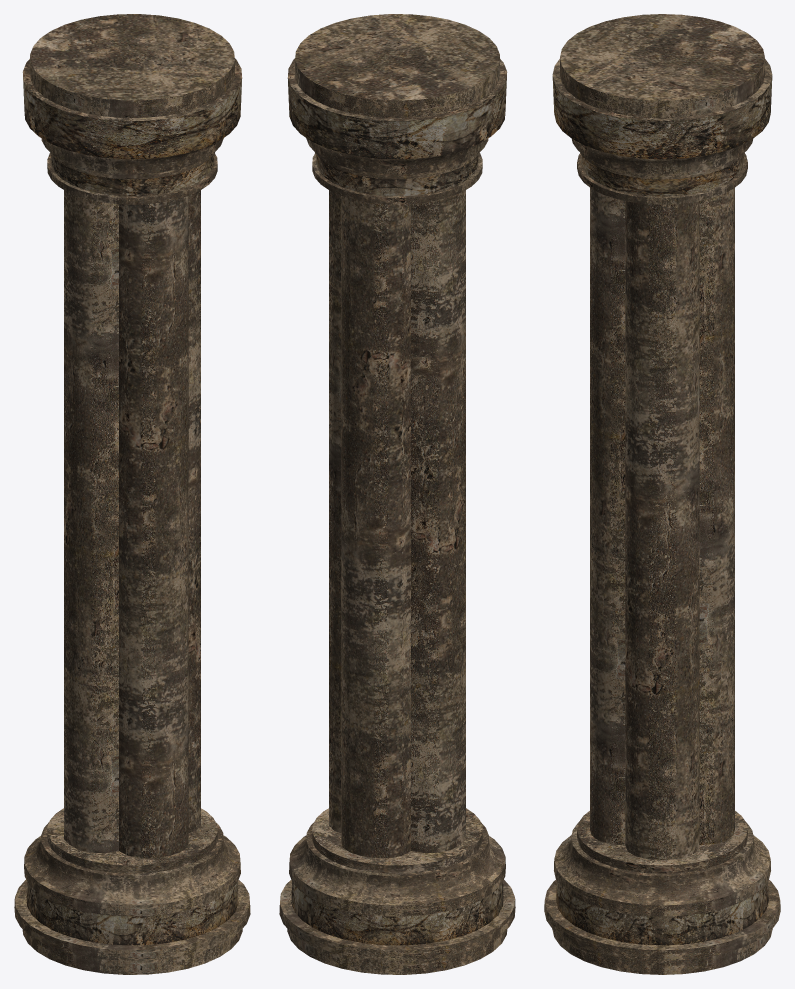
File: materials_5_pillar_long_11.fbx
3 views of the same model, side by side, from view 1: azimuth 30°, elevation 25°; view 2: azimuth 150°, elevation 25°; view 3: azimuth 270°, elevation 25° (orthographic).
Visible parts, largest first — view 1: materials_5_pillar_long_11; view 2: materials_5_pillar_long_11; view 3: materials_5_pillar_long_11.
Boxes of the visible parts, <box> form: materials_5_pillar_long_11: <box>14,14,250,974</box>; materials_5_pillar_long_11: <box>279,14,515,974</box>; materials_5_pillar_long_11: <box>544,14,780,974</box>.
Size of the model in its own units: 76.87 by 312 by 76.87.
